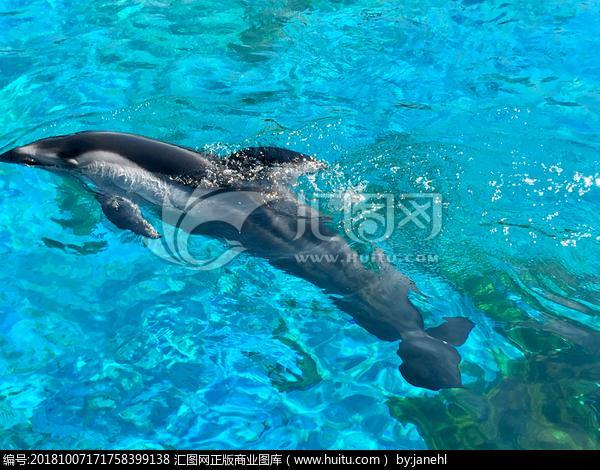fish: (2, 130, 478, 396)
